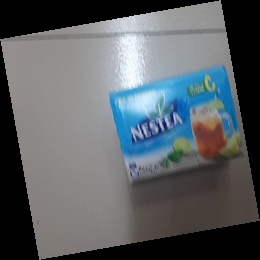Nestea: (106, 67, 243, 189)
